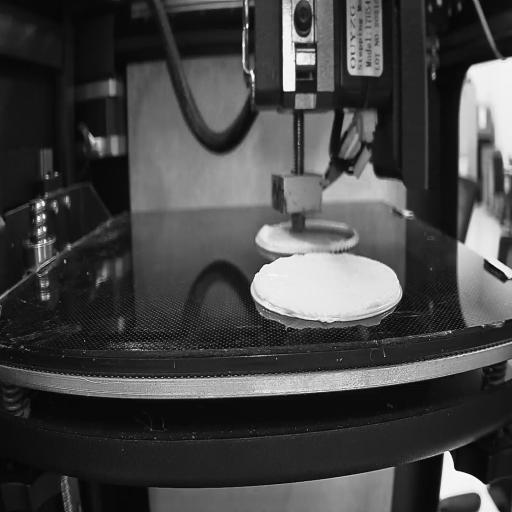over_extrusion: (366, 285, 402, 313), (252, 261, 271, 300)
